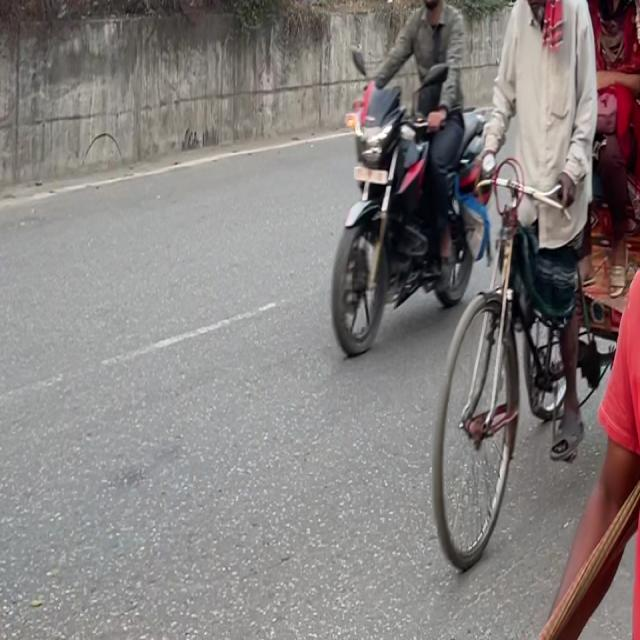motorbike: (307, 0, 473, 400)
